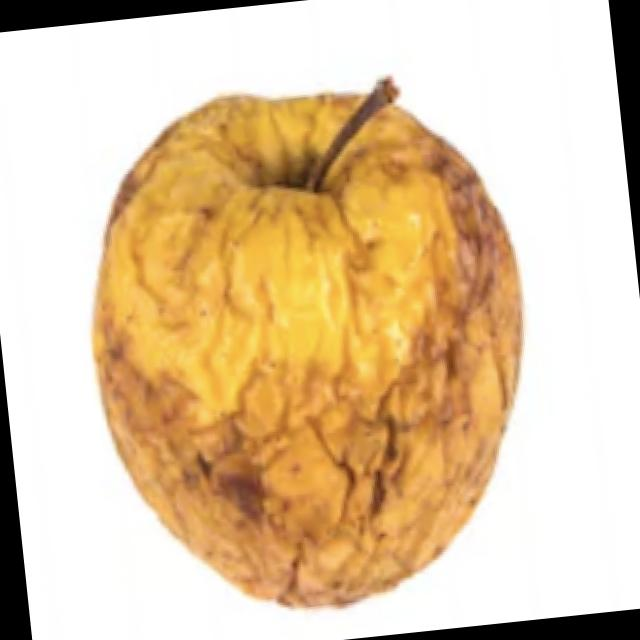rotten_apple: (70, 64, 556, 632)
